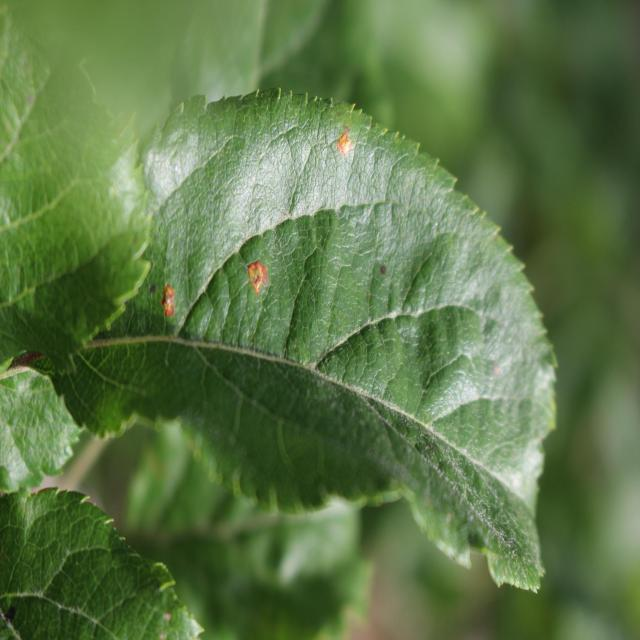Rust: (314, 106, 364, 184), (224, 245, 276, 316), (146, 263, 188, 346)
